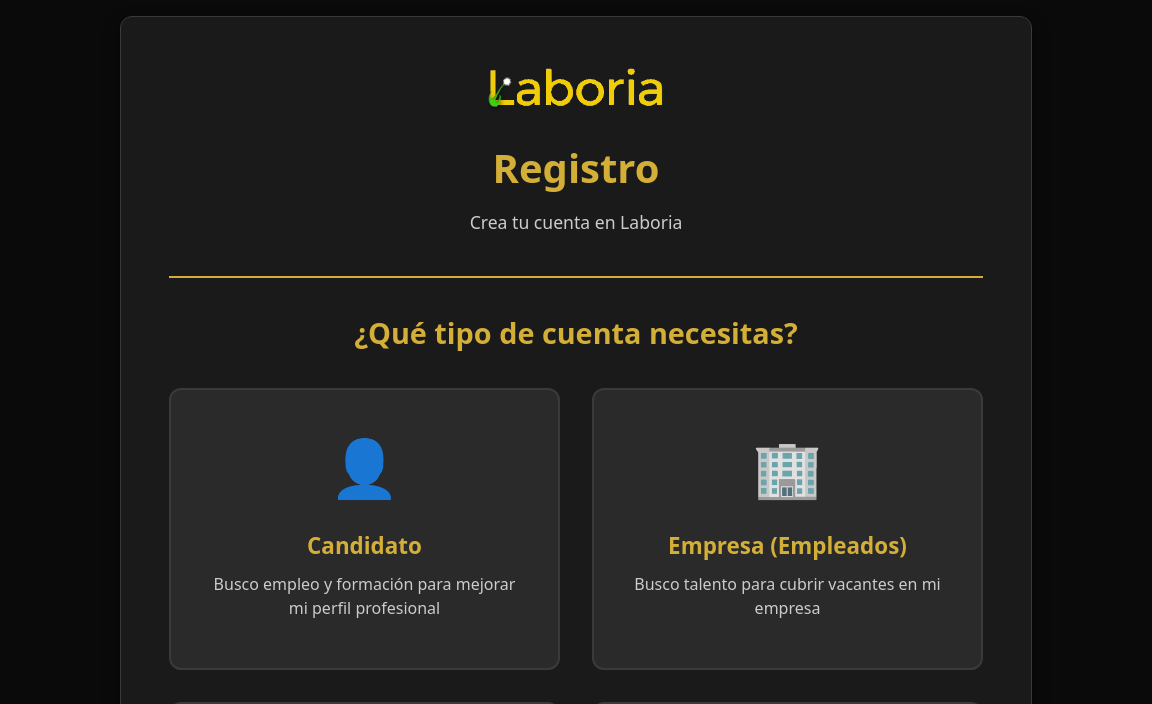
Test: RegisterPage › muestra el formulario de registro al seleccionar rol
The image size is (1152, 704).
Click the heading "Candidato": (364, 545) [307,530,422,561]
(page scrolled)
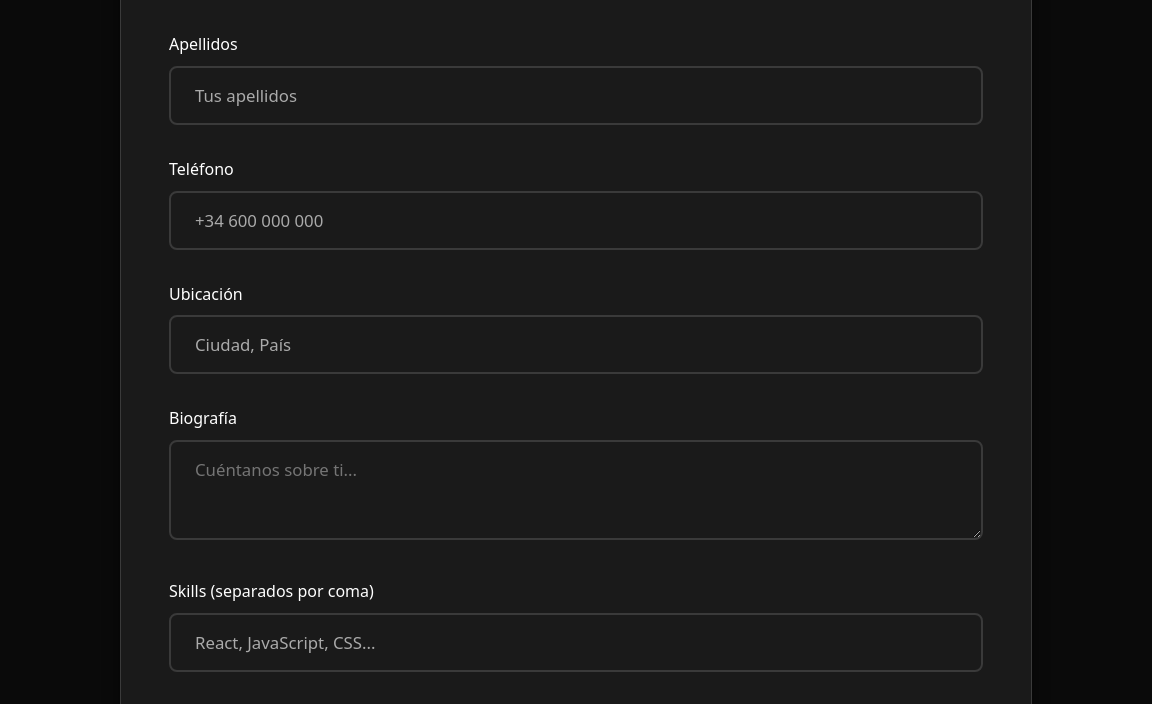
Result: the field labelled "Apellidos" is shown at [169,66,983,125]
Result: the field labelled "Teléfono" is shown at [169,191,983,250]
Result: the field labelled "Ubicación" is shown at [169,315,983,374]
